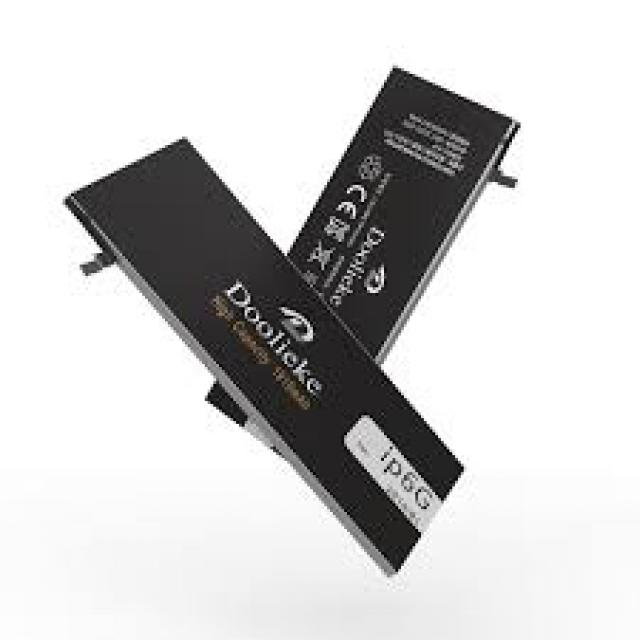non-organic waste: (62, 133, 465, 573), (202, 64, 526, 466)
